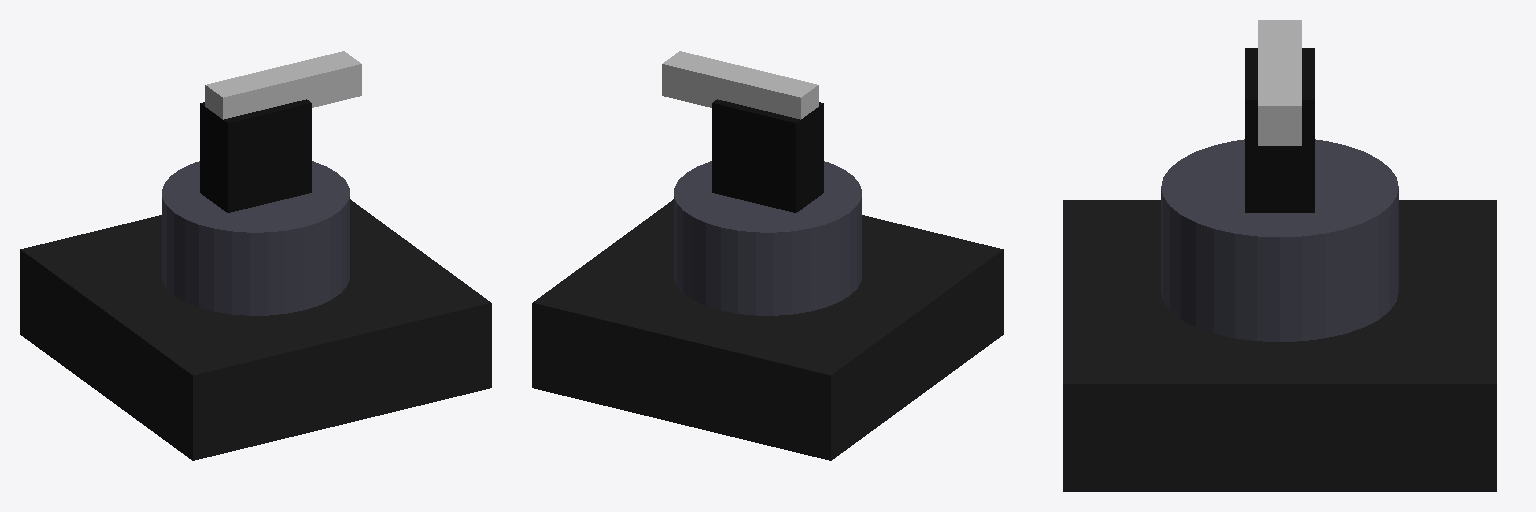
robot.urdf — sentry_primitives:
<?xml version="1.0" encoding="utf-8"?>
<!-- =================================================================================== -->
<!-- |    Sentry Mk2 Pure-Primitive Model (Production URDF)                              | -->
<!-- |    Analytical cylinders and boxes for fast physics simulators (PyBullet/MuJoCo)  | -->
<!-- |    Source of Truth: primitive_collisions.yaml, PartBreakdown.txt, REP-103/120    | -->
<!-- |    Total Robot Mass: 19.631283 kg (8 rigid bodies + 1 ground footprint)          | -->
<!-- =================================================================================== -->
<robot name="sentry_primitives">

  <!-- ==================== Materials ==================== -->
  <material name="chassis_dark">
    <color rgba="0.15 0.15 0.15 1.0"/>
  </material>
  <material name="wheel_rubber">
    <color rgba="0.2 0.2 0.2 1.0"/>
  </material>
  <material name="turret_grey">
    <color rgba="0.3 0.3 0.35 1.0"/>
  </material>
  <material name="carbon_fiber">
    <color rgba="0.1 0.1 0.1 1.0"/>
  </material>
  <material name="aluminum">
    <color rgba="0.75 0.75 0.75 1.0"/>
  </material>

  <!-- ==================== Base Footprint (Ground Projection) ==================== -->
  <link name="base_footprint"/>

  <joint name="base_footprint_joint" type="fixed">
    <parent link="base_footprint"/>
    <child link="base_link"/>
    <origin xyz="0.0 0.0 0.062679" rpy="0.0 0.0 0.0"/>
  </joint>

  <!-- ==================== Base Link (Chassis) ==================== -->
  <link name="base_link">
    <inertial>
      <origin xyz="-0.003613 -0.004093 0.057905" rpy="0.0 0.0 0.0"/>
      <mass value="11.543771"/>
      <inertia ixx="0.255092" ixy="0.003801" ixz="-0.000133"
               iyy="0.233579" iyz="-0.000716" izz="0.423368"/>
    </inertial>
    <visual>
      <origin xyz="0.0 0.0 0.046" rpy="0.0 0.0 0.0"/>
      <geometry>
        <box size="0.585 0.585 0.160"/>
      </geometry>
      <material name="chassis_dark"/>
    </visual>
    <collision>
      <origin xyz="0.0 0.0 0.046" rpy="0.0 0.0 0.0"/>
      <geometry>
        <box size="0.585 0.585 0.160"/>
      </geometry>
    </collision>
  </link>

  <!-- ==================== Front Left Wheel ==================== -->
  <link name="fl_wheel">
    <inertial>
      <origin xyz="0.0 0.0 0.0" rpy="0.0 1.570796 0.785398"/>
      <mass value="0.717025"/>
      <inertia ixx="0.000868" ixy="-0.000001" ixz="-0.000001"
               iyy="0.000870" iyz="-0.000001" izz="0.001528"/>
    </inertial>
    <visual>
      <origin xyz="0.0 0.0 0.0" rpy="0.0 1.570796 0.785398"/>
      <geometry>
        <cylinder radius="0.07586" length="0.06486"/>
      </geometry>
      <material name="wheel_rubber"/>
    </visual>
    <collision>
      <origin xyz="0.0 0.0 0.0" rpy="0.0 1.570796 0.785398"/>
      <geometry>
        <cylinder radius="0.07586" length="0.06486"/>
      </geometry>
    </collision>
  </link>

  <joint name="joint_fl_wheel" type="continuous">
    <parent link="base_link"/>
    <child link="fl_wheel"/>
    <origin xyz="0.15672 0.15672 0.013181" rpy="0.0 0.0 0.0"/>
    <axis xyz="0.707107 0.707107 0.0"/>
    <limit effort="5.0" velocity="46.8"/>
  </joint>

  <!-- ==================== Front Right Wheel ==================== -->
  <link name="fr_wheel">
    <inertial>
      <origin xyz="0.0 0.0 0.0" rpy="0.0 1.570796 -0.785398"/>
      <mass value="0.717025"/>
      <inertia ixx="0.000868" ixy="-0.000001" ixz="-0.000001"
               iyy="0.000870" iyz="-0.000001" izz="0.001528"/>
    </inertial>
    <visual>
      <origin xyz="0.0 0.0 0.0" rpy="0.0 1.570796 -0.785398"/>
      <geometry>
        <cylinder radius="0.07586" length="0.06486"/>
      </geometry>
      <material name="wheel_rubber"/>
    </visual>
    <collision>
      <origin xyz="0.0 0.0 0.0" rpy="0.0 1.570796 -0.785398"/>
      <geometry>
        <cylinder radius="0.07586" length="0.06486"/>
      </geometry>
    </collision>
  </link>

  <joint name="joint_fr_wheel" type="continuous">
    <parent link="base_link"/>
    <child link="fr_wheel"/>
    <origin xyz="0.15672 -0.15672 0.013181" rpy="0.0 0.0 0.0"/>
    <axis xyz="0.707107 -0.707107 0.0"/>
    <limit effort="5.0" velocity="46.8"/>
  </joint>

  <!-- ==================== Back Left Wheel ==================== -->
  <link name="bl_wheel">
    <inertial>
      <origin xyz="0.0 0.0 0.0" rpy="0.0 1.570796 2.356194"/>
      <mass value="0.717025"/>
      <inertia ixx="0.000868" ixy="-0.000001" ixz="-0.000001"
               iyy="0.000870" iyz="-0.000001" izz="0.001528"/>
    </inertial>
    <visual>
      <origin xyz="0.0 0.0 0.0" rpy="0.0 1.570796 2.356194"/>
      <geometry>
        <cylinder radius="0.07586" length="0.06486"/>
      </geometry>
      <material name="wheel_rubber"/>
    </visual>
    <collision>
      <origin xyz="0.0 0.0 0.0" rpy="0.0 1.570796 2.356194"/>
      <geometry>
        <cylinder radius="0.07586" length="0.06486"/>
      </geometry>
    </collision>
  </link>

  <joint name="joint_bl_wheel" type="continuous">
    <parent link="base_link"/>
    <child link="bl_wheel"/>
    <origin xyz="-0.15672 0.15672 0.013181" rpy="0.0 0.0 0.0"/>
    <axis xyz="-0.707107 0.707107 0.0"/>
    <limit effort="5.0" velocity="46.8"/>
  </joint>

  <!-- ==================== Back Right Wheel ==================== -->
  <link name="br_wheel">
    <inertial>
      <origin xyz="0.0 0.0 0.0" rpy="0.0 1.570796 -2.356194"/>
      <mass value="0.717025"/>
      <inertia ixx="0.000868" ixy="-0.000001" ixz="-0.000001"
               iyy="0.000870" iyz="-0.000001" izz="0.001528"/>
    </inertial>
    <visual>
      <origin xyz="0.0 0.0 0.0" rpy="0.0 1.570796 -2.356194"/>
      <geometry>
        <cylinder radius="0.07586" length="0.06486"/>
      </geometry>
      <material name="wheel_rubber"/>
    </visual>
    <collision>
      <origin xyz="0.0 0.0 0.0" rpy="0.0 1.570796 -2.356194"/>
      <geometry>
        <cylinder radius="0.07586" length="0.06486"/>
      </geometry>
    </collision>
  </link>

  <joint name="joint_br_wheel" type="continuous">
    <parent link="base_link"/>
    <child link="br_wheel"/>
    <origin xyz="-0.15672 -0.15672 0.013181" rpy="0.0 0.0 0.0"/>
    <axis xyz="-0.707107 -0.707107 0.0"/>
    <limit effort="5.0" velocity="46.8"/>
  </joint>

  <!-- ==================== Turret Major (Yaw) ==================== -->
  <link name="turret_major">
    <inertial>
      <origin xyz="0.005345 -0.001700 0.076253" rpy="0.0 0.0 0.0"/>
      <mass value="3.472084"/>
      <inertia ixx="0.030300" ixy="0.000664" ixz="0.001056"
               iyy="0.035412" iyz="-0.000022" izz="0.047017"/>
    </inertial>
    <visual>
      <origin xyz="0.0 0.0 0.102" rpy="0.0 0.0 0.0"/>
      <geometry>
        <cylinder radius="0.160" length="0.204"/>
      </geometry>
      <material name="turret_grey"/>
    </visual>
    <collision>
      <origin xyz="0.0 0.0 0.102" rpy="0.0 0.0 0.0"/>
      <geometry>
        <cylinder radius="0.160" length="0.204"/>
      </geometry>
    </collision>
  </link>

  <joint name="joint_major" type="continuous">
    <parent link="base_link"/>
    <child link="turret_major"/>
    <origin xyz="0.0 0.0 0.0776" rpy="0.0 0.0 0.0"/>
    <axis xyz="0.0 0.0 1.0"/>
    <limit effort="15.0" velocity="20.0"/>
  </joint>

  <!-- ==================== Turret Minor Frame (Yaw) ==================== -->
  <link name="turret_minor_frame">
    <inertial>
      <origin xyz="0.014014 -0.004878 0.070236" rpy="0.0 0.0 0.0"/>
      <mass value="0.765757"/>
      <inertia ixx="0.002123" ixy="0.000142" ixz="-0.000101"
               iyy="0.002745" iyz="-0.000102" izz="0.001032"/>
    </inertial>
    <visual>
      <origin xyz="0.0 0.0 0.1165" rpy="0.0 0.0 0.0"/>
      <geometry>
        <box size="0.165 0.094 0.233"/>
      </geometry>
      <material name="carbon_fiber"/>
    </visual>
    <collision>
      <origin xyz="0.0 0.0 0.1165" rpy="0.0 0.0 0.0"/>
      <geometry>
        <box size="0.165 0.094 0.233"/>
      </geometry>
    </collision>
  </link>

  <joint name="joint_minor_yaw" type="revolute">
    <parent link="turret_major"/>
    <child link="turret_minor_frame"/>
    <origin xyz="0.0 0.0 0.13935" rpy="0.0 0.0 0.0"/>
    <axis xyz="0.0 0.0 1.0"/>
    <limit lower="-1.570796" upper="1.570796" effort="3.0" velocity="33.5"/>
  </joint>

  <!-- ==================== Turret Minor Firing System (Pitch) ==================== -->
  <link name="turret_minor_firing_system">
    <inertial>
      <origin xyz="0.054018 -0.000068 0.030540" rpy="0.0 0.0 0.0"/>
      <mass value="0.981571"/>
      <inertia ixx="0.001720" ixy="0.000004" ixz="-0.000303"
               iyy="0.007493" iyz="0.000003" izz="0.007408"/>
    </inertial>
    <visual>
      <origin xyz="0.054 0.0 0.030" rpy="0.0 0.0 0.0"/>
      <geometry>
        <box size="0.272 0.060 0.060"/>
      </geometry>
      <material name="aluminum"/>
    </visual>
    <collision>
      <origin xyz="0.054 0.0 0.030" rpy="0.0 0.0 0.0"/>
      <geometry>
        <box size="0.272 0.060 0.060"/>
      </geometry>
    </collision>
  </link>

  <joint name="joint_minor_pitch" type="revolute">
    <parent link="turret_minor_frame"/>
    <child link="turret_minor_firing_system"/>
    <origin xyz="0.0 0.0 0.214" rpy="0.0 0.0 0.0"/>
    <axis xyz="0.0 1.0 0.0"/>
    <limit lower="-0.35" upper="0.61" effort="3.0" velocity="33.5"/>
  </joint>

</robot>

--- Render facts (derived) ---
3 views of the same robot in one strip: view 1: azimuth 30°, elevation 25°; view 2: azimuth 150°, elevation 25°; view 3: azimuth 270°, elevation 25° (orthographic).
Model sentry_primitives with 9 links and 8 joints (2 revolute, 5 continuous, 1 fixed), rooted at base_footprint, posed all joints at 0.
Links seen in each view (by area): view 1: base_link, turret_major, turret_minor_frame, turret_minor_firing_system; view 2: base_link, turret_major, turret_minor_frame, turret_minor_firing_system; view 3: base_link, turret_major, turret_minor_frame, turret_minor_firing_system.
Link boxes in pixels (bbox=[...]): base_link: bbox=[20, 199, 491, 460]; turret_major: bbox=[162, 161, 349, 315]; turret_minor_frame: bbox=[200, 99, 311, 212]; turret_minor_firing_system: bbox=[205, 51, 361, 119]; base_link: bbox=[532, 199, 1003, 460]; turret_major: bbox=[674, 161, 861, 315]; turret_minor_frame: bbox=[712, 99, 823, 212]; turret_minor_firing_system: bbox=[662, 51, 818, 119]; base_link: bbox=[1063, 200, 1496, 491]; turret_major: bbox=[1161, 139, 1398, 341]; turret_minor_frame: bbox=[1245, 48, 1314, 212]; turret_minor_firing_system: bbox=[1258, 20, 1301, 145].
Bounding box of the posed robot: 0.585 × 0.585 × 0.5536 m (x, y, z).
Geometry: primitives only (box / cylinder / sphere), no mesh files.
